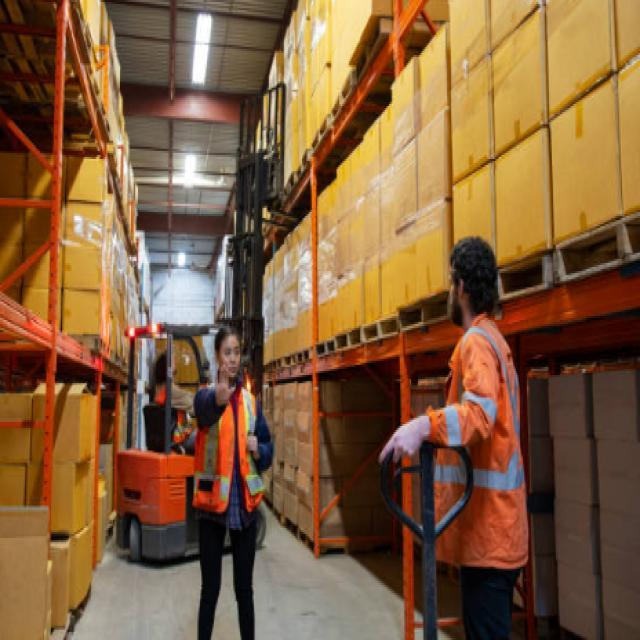vest: (431, 320, 531, 574), (192, 378, 270, 517), (153, 381, 195, 445)
